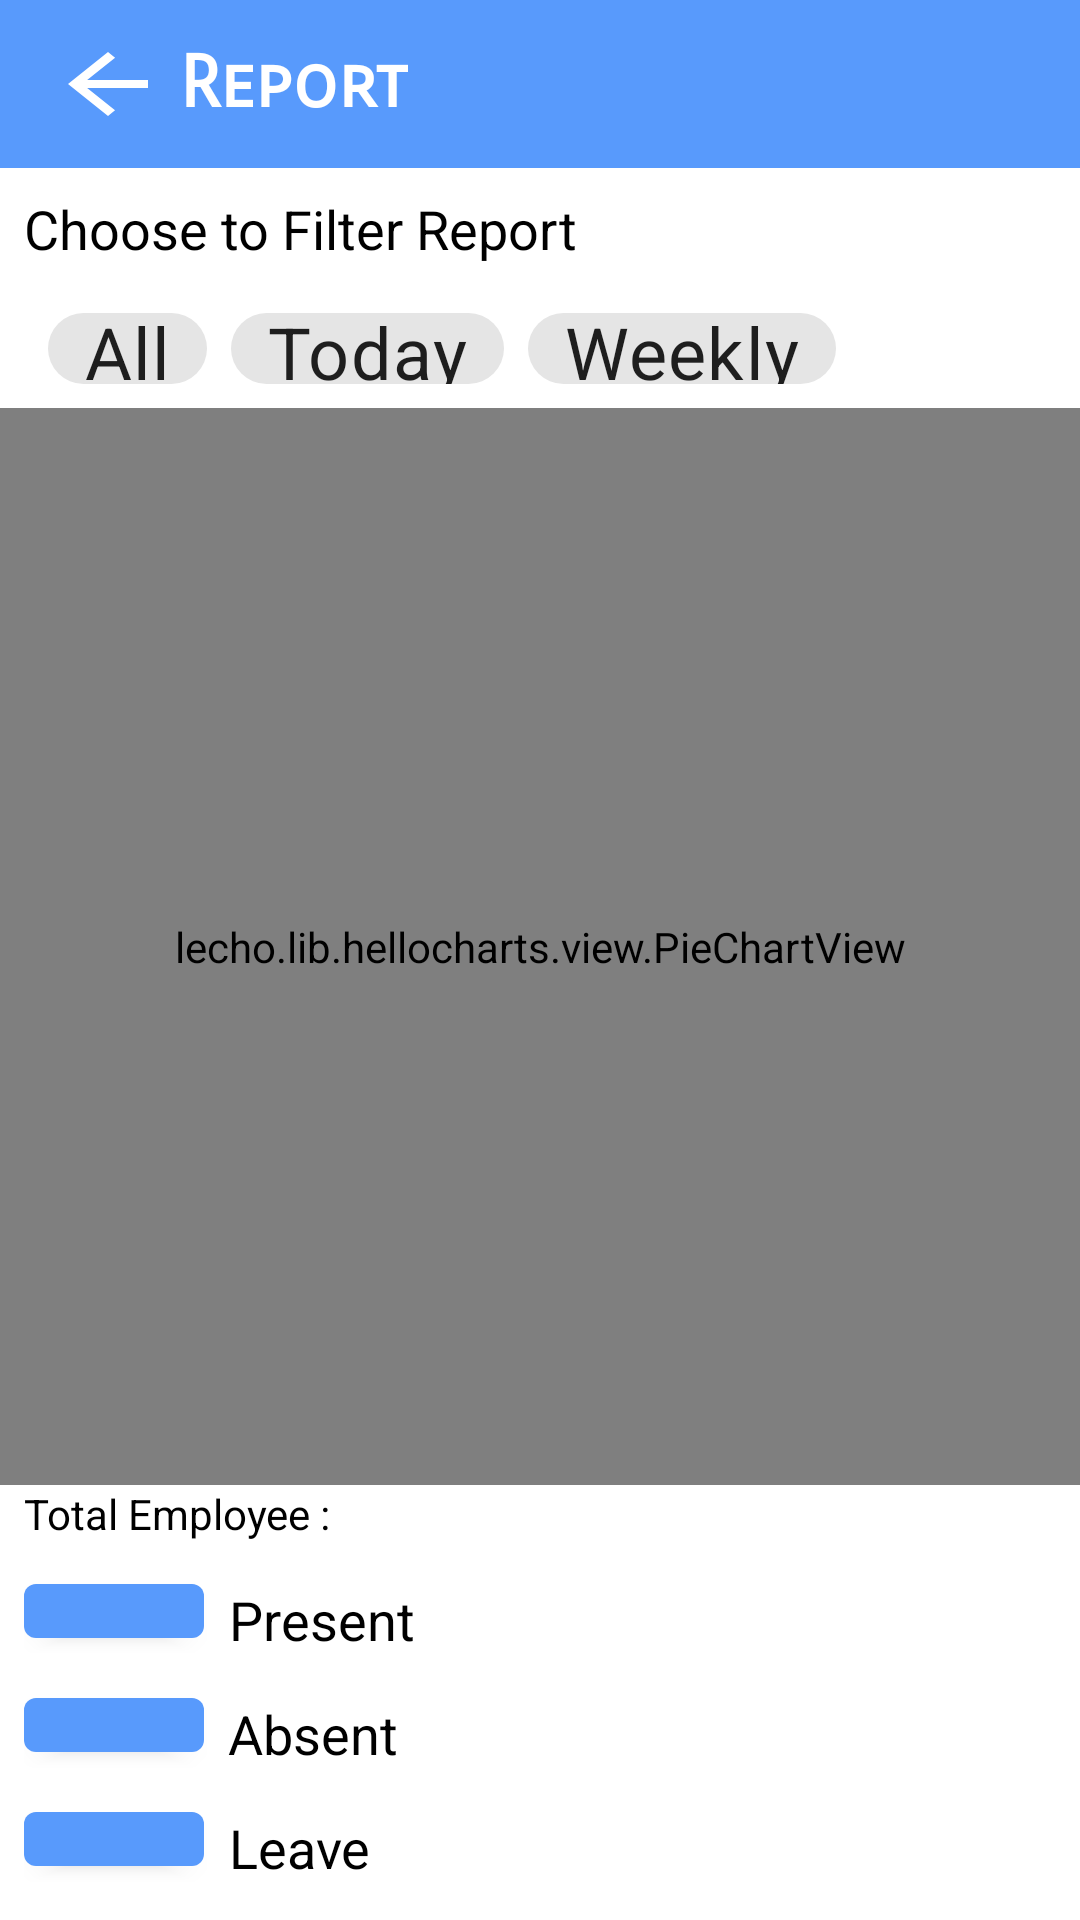

Named icons in this screenshot (1080 x 1920) and their bounding boxes, (x1, y1, x2, y2):
back arrow: (68, 52, 148, 116)
